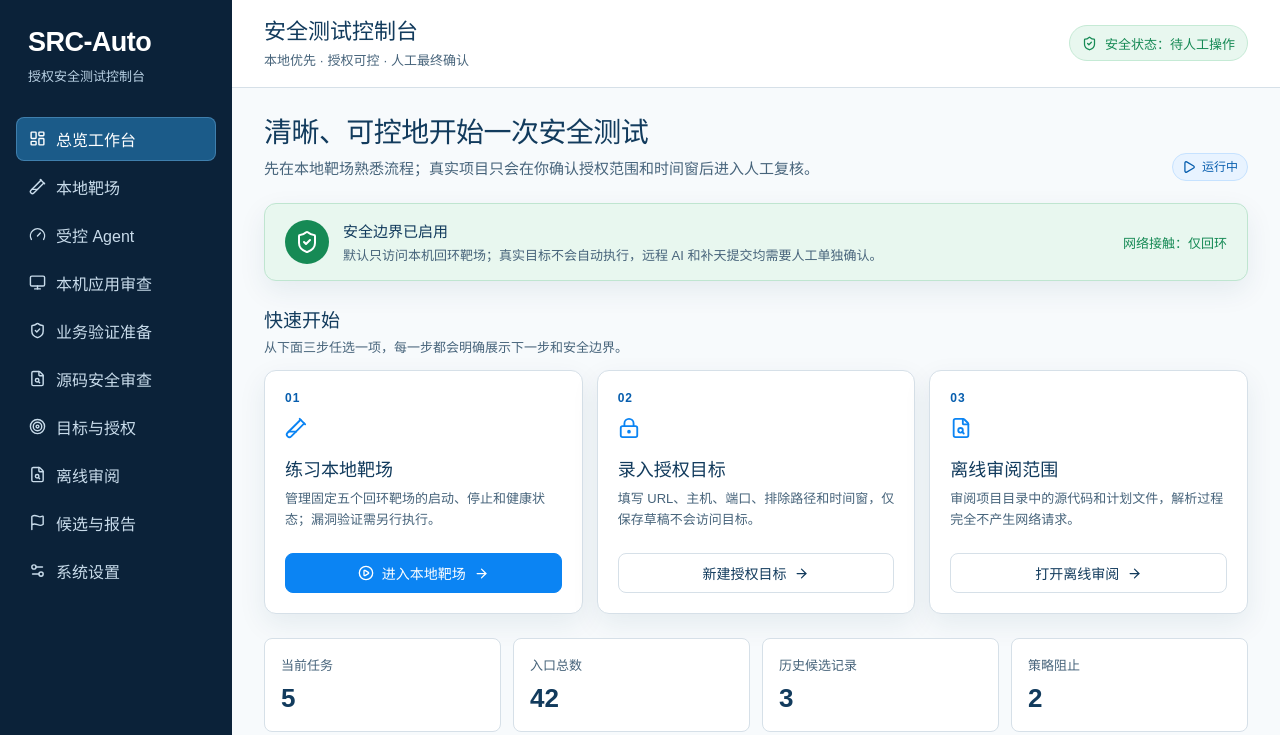
it: dashboard pages › submits a batch start and stop action from the lab banner
The image size is (1280, 735).
Step 1. Click the button "本地靶场" → (116,187), box [16,165,216,209]
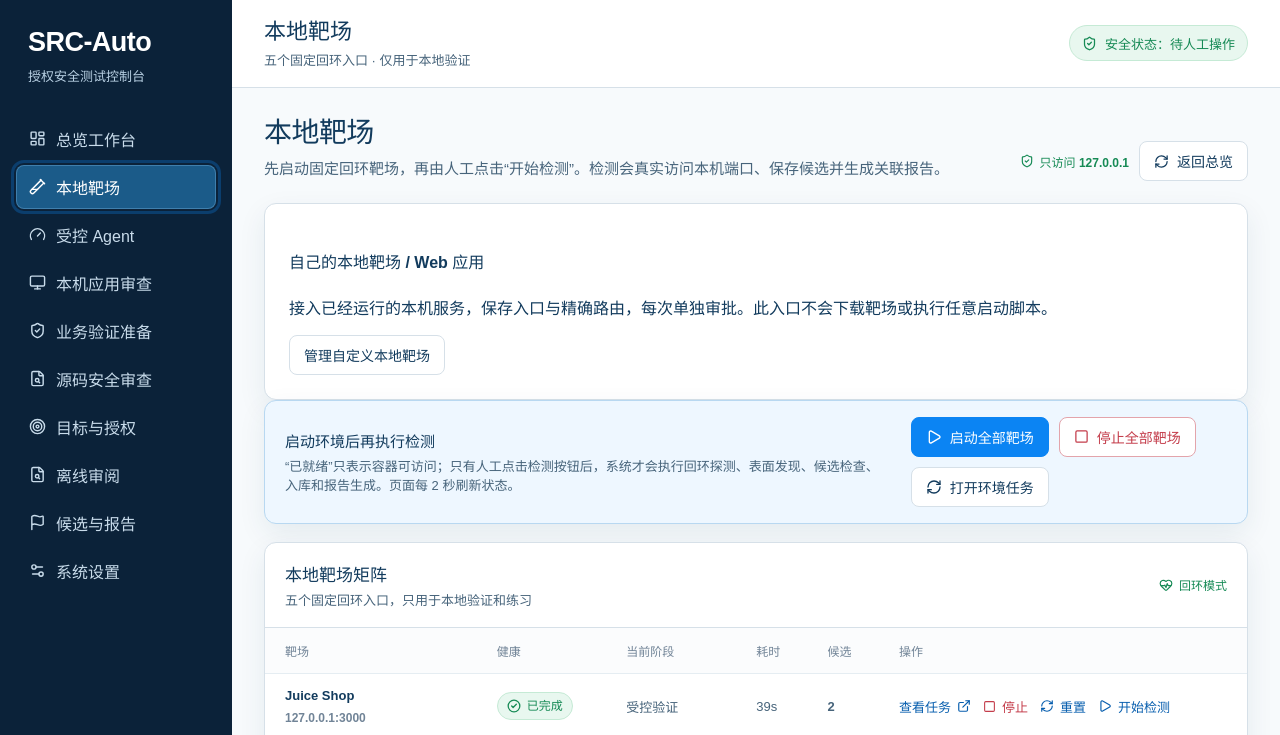
Step 2. Click the button "启动全部靶场" → (980,437), box [911,417,1049,457]
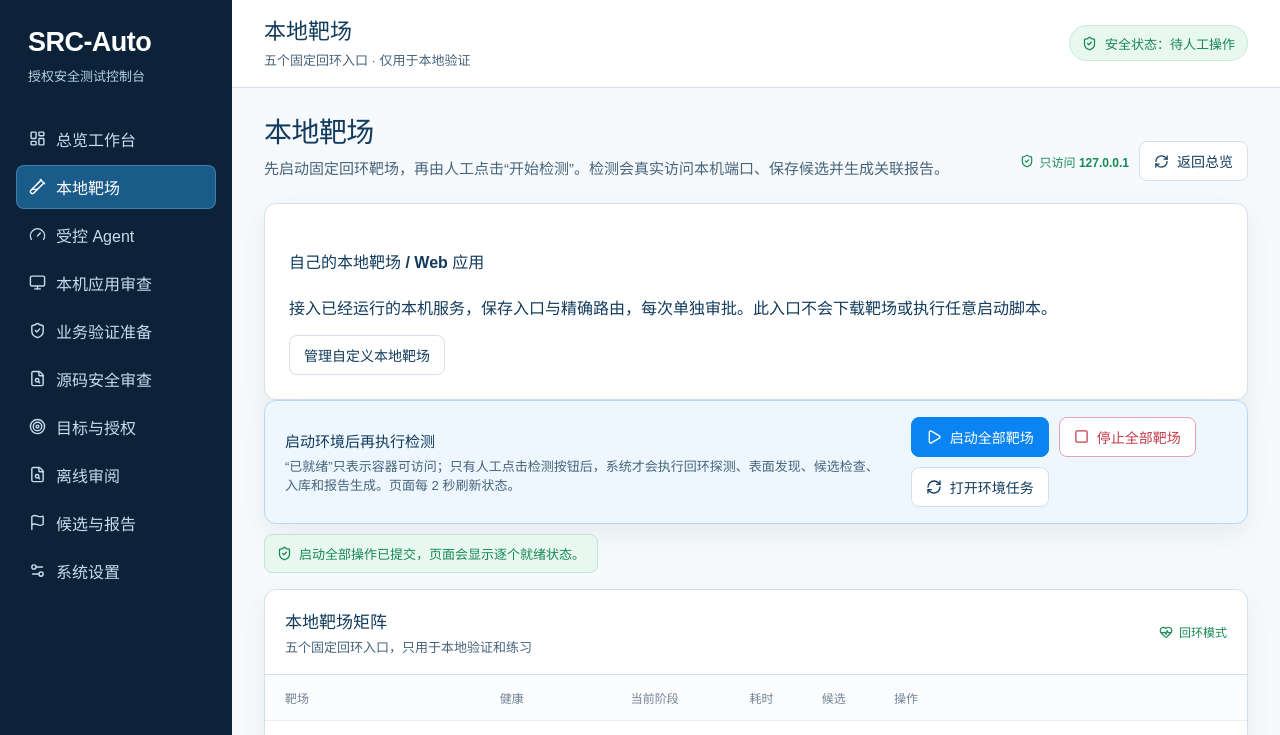
Result: the text "启动全部操作已提交，页面会显示逐个就绪状态。" is shown at [264,534,598,573]
Step 3. Click the button "停止全部靶场" → (1127,437), box [1059,417,1196,457]
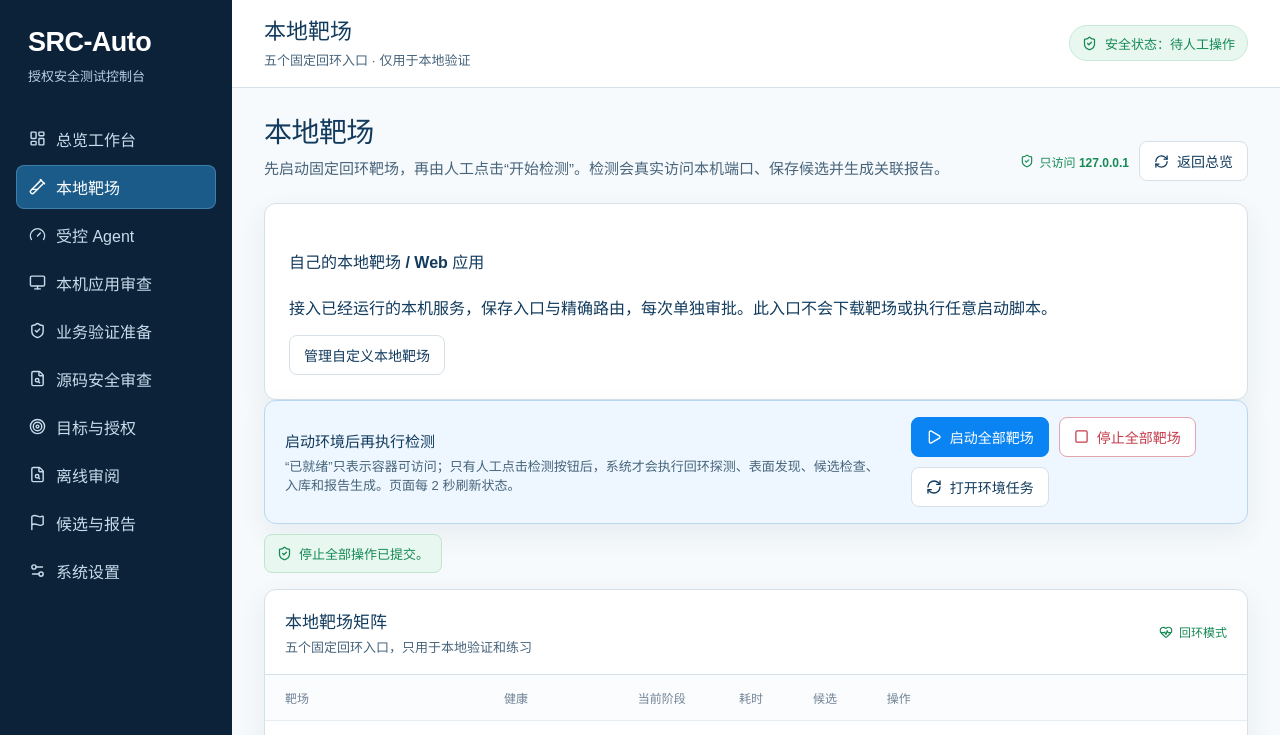
Result: the text "停止全部操作已提交。" is shown at [264,534,442,573]
